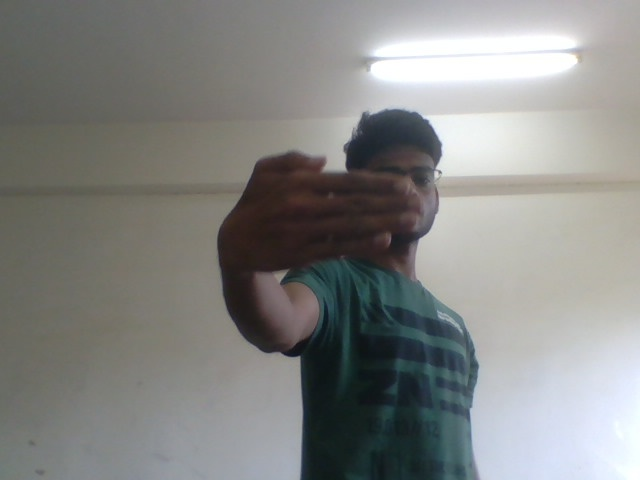Left: (212, 142, 424, 286)
